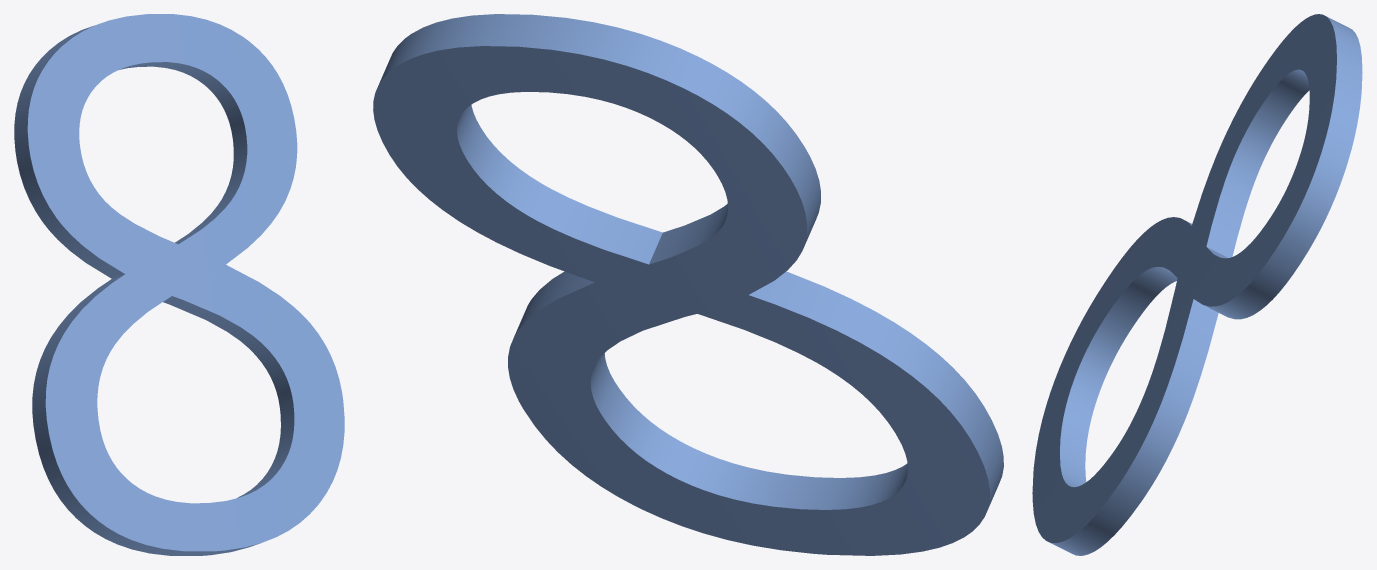
File: Number_8.gltf
3 views of the same model, side by side, from view 1: azimuth 30°, elevation 25°; view 2: azimuth 150°, elevation 25°; view 3: azimuth 270°, elevation 25° (orthographic). The views are drawn at different scales.
Visible parts, largest first — view 1: Sub_3_Cell_1_3_Number_8; view 2: Sub_3_Cell_1_3_Number_8; view 3: Sub_3_Cell_1_3_Number_8.
Boxes of the visible parts, bbox=[...] form: Sub_3_Cell_1_3_Number_8: bbox=[14, 14, 344, 555]; Sub_3_Cell_1_3_Number_8: bbox=[373, 14, 1003, 555]; Sub_3_Cell_1_3_Number_8: bbox=[1032, 14, 1362, 555].
Size of the model in its own units: 0.0178 by 0.0232 by 0.014.
